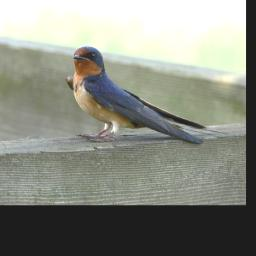Swallow: (64, 44, 231, 147)
